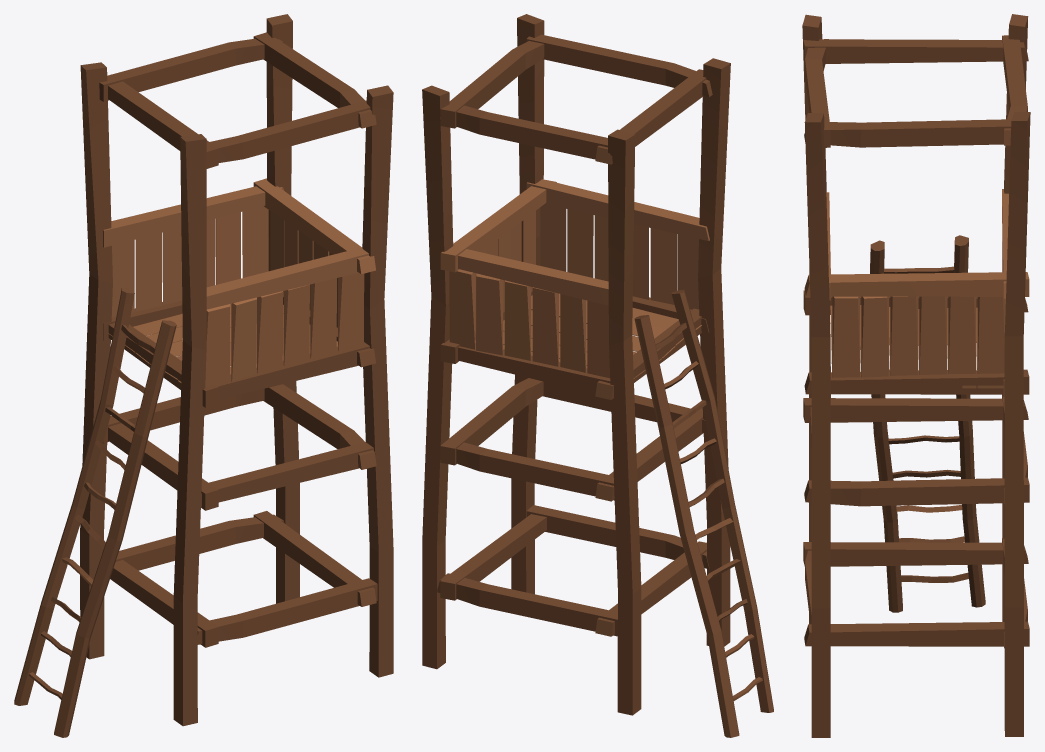
File: Tower.fbx
The picture shows the model from 3 angles, left to right: view 1: azimuth 30°, elevation 25°; view 2: azimuth 150°, elevation 25°; view 3: azimuth 270°, elevation 25°; orthographic projection. The views are drawn at different scales.
Parts seen in each view (by area): view 1: Tower; view 2: Tower; view 3: Tower.
Boxes of the visible parts, x1,y1,x2,y2 form: Tower: [14, 14, 393, 737]; Tower: [422, 14, 773, 737]; Tower: [802, 14, 1030, 737].
Bounding box in the file's own units: 3.79 × 7.3 × 2.37.
